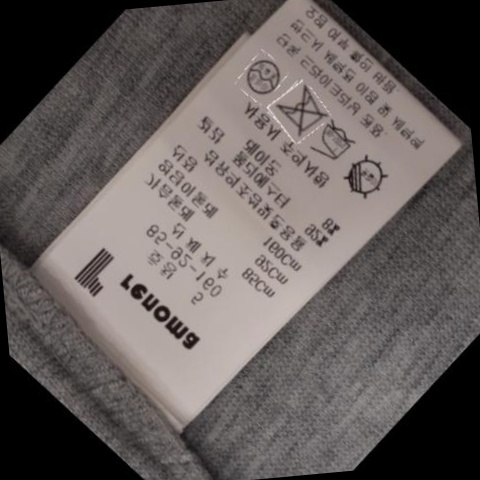DN_wash: (272, 88, 326, 134)
dry_clean_petrol_only: (240, 55, 283, 96)
iron_low: (310, 122, 358, 164)
line_dry_in_shade: (336, 156, 389, 200)
